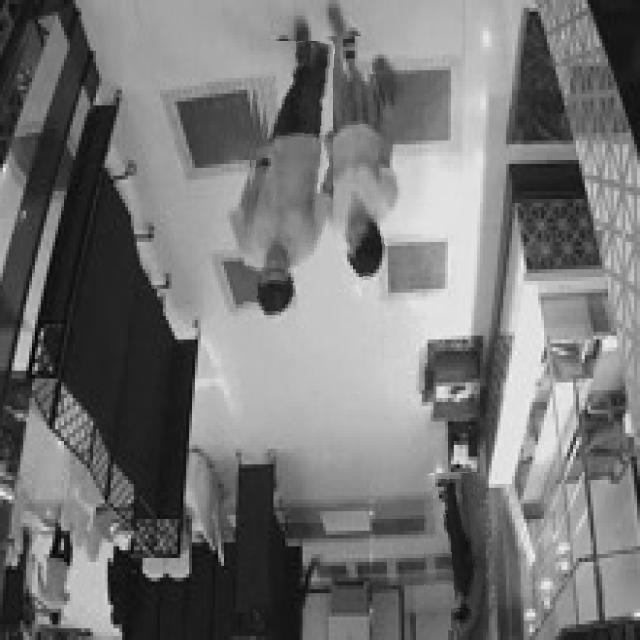Normal: (245, 41, 333, 353), (321, 36, 405, 338), (424, 473, 485, 632)
